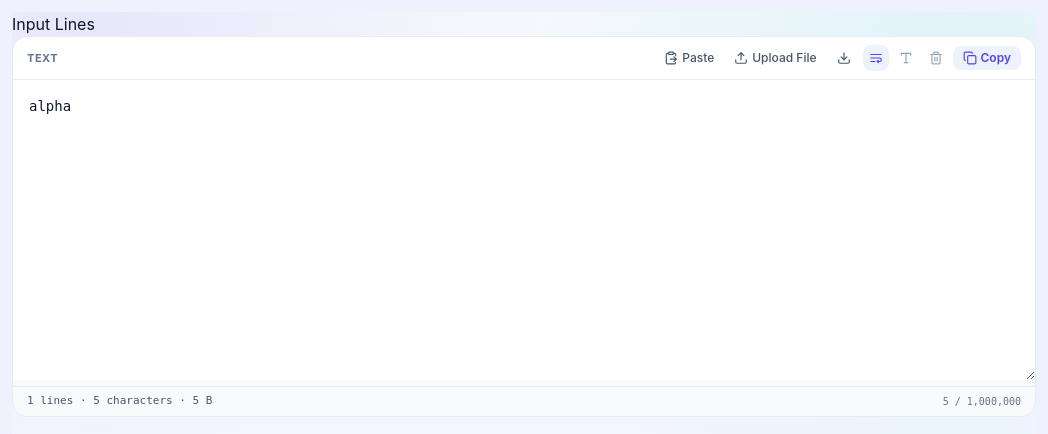
Test case: CodeEditor › offers an undo action after clearing content
Click the button named "Clear": (936, 58) [922,45,948,71]
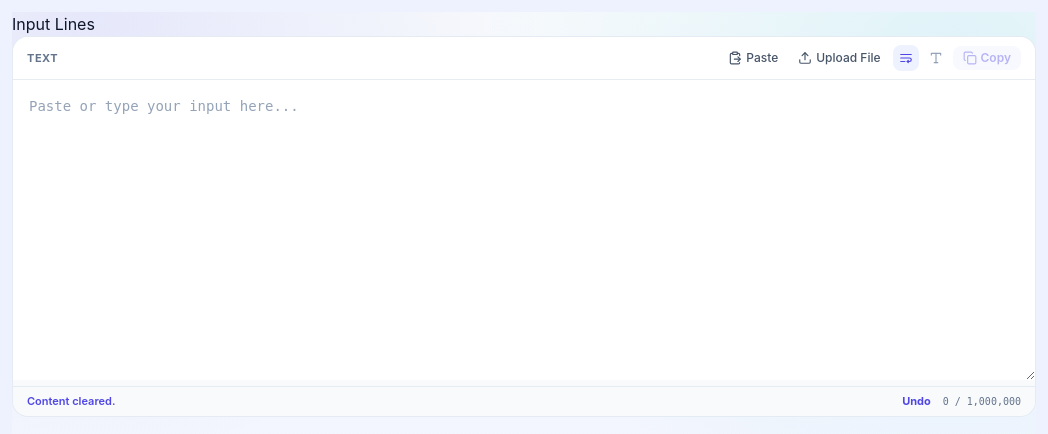
Expected: the text box labelled "Input Lines" is empty
Expected: the message shows "Content cleared.", [27,394,115,408]
Click the button "Undo": (916, 401) [902,393,931,410]
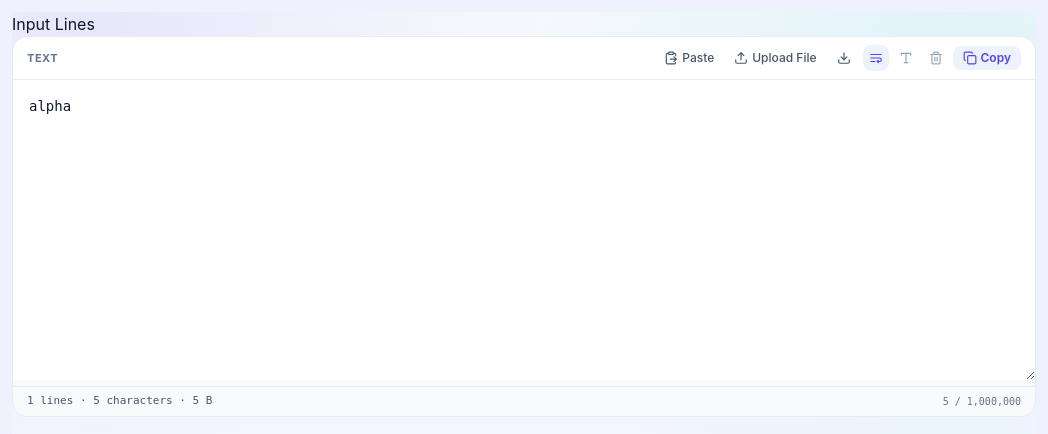
Expected: the text box labelled "Input Lines" holds "alpha"
